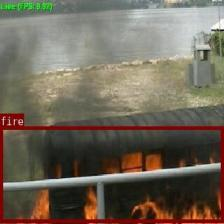fire: (0, 125, 223, 222)
